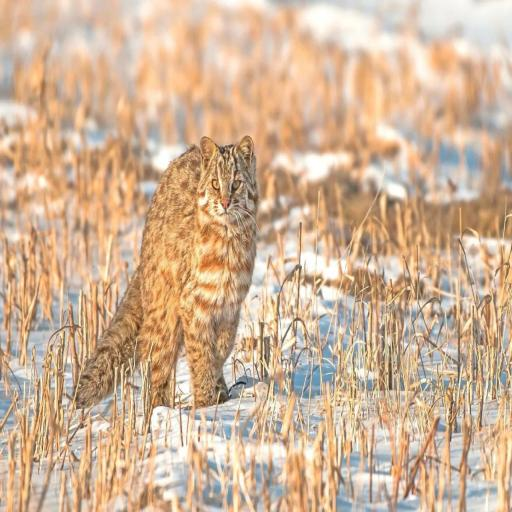cat: (74, 136, 258, 412)
